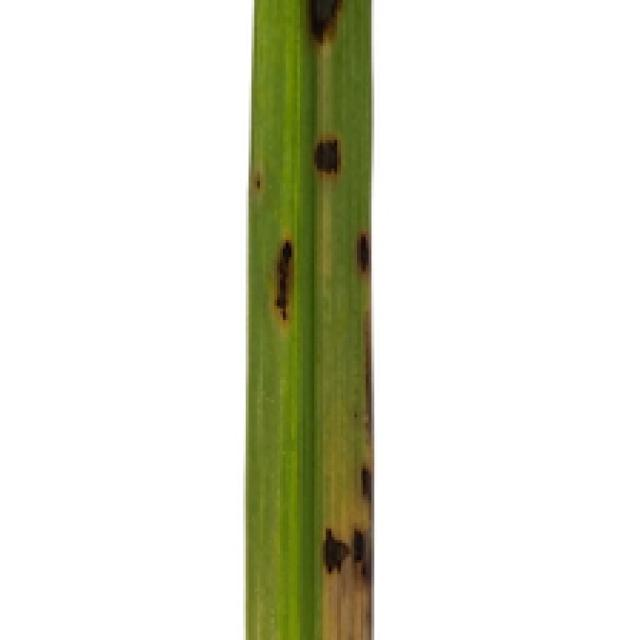Rice___Rice_Blast: (247, 0, 376, 637)
